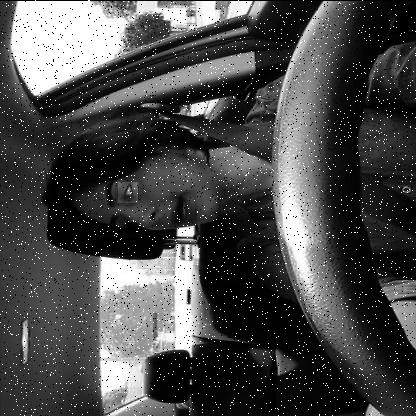seatbelt: (33, 104, 416, 243)
